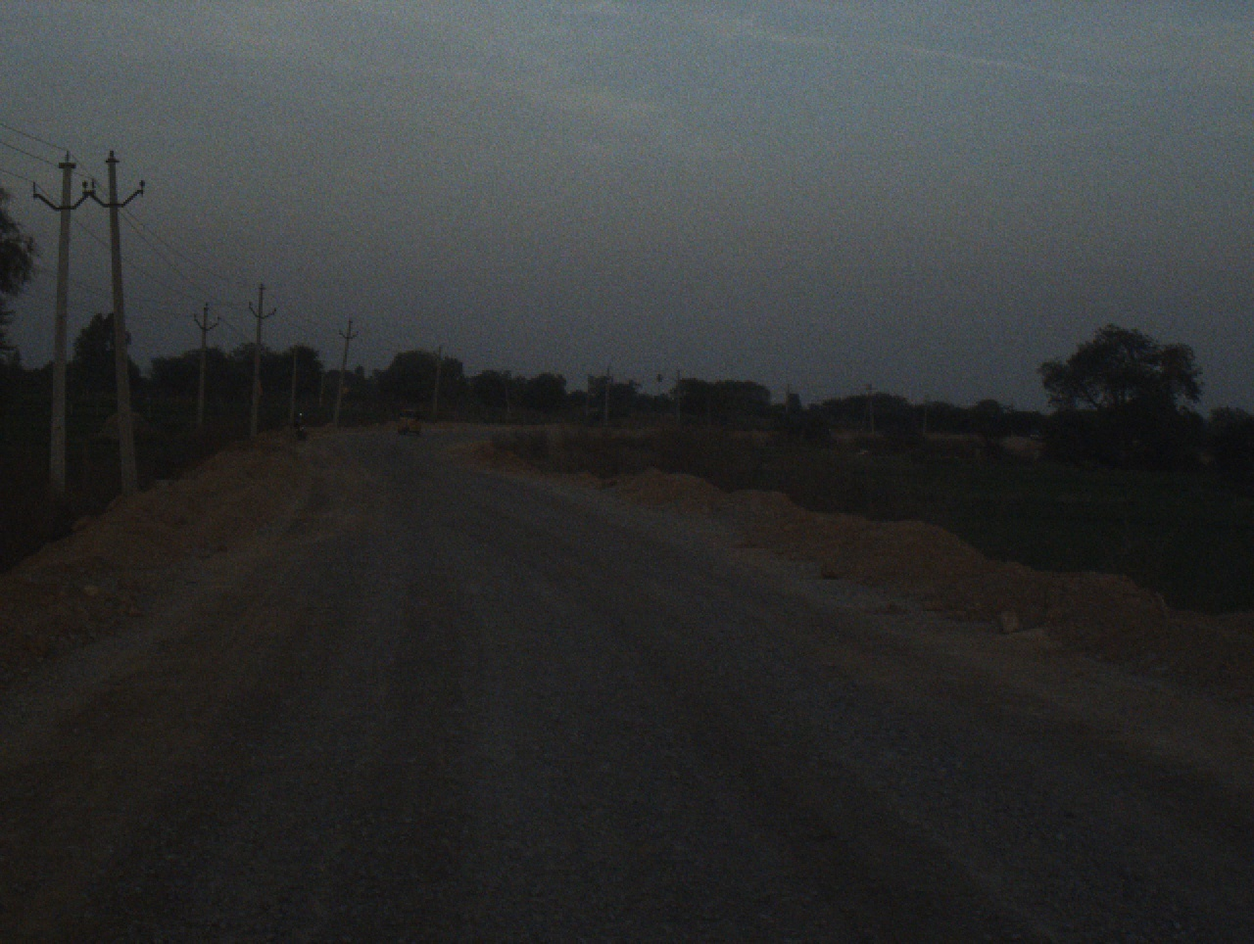autorickshaw: (401, 407, 424, 436)
motorcycle: (290, 407, 312, 444)
